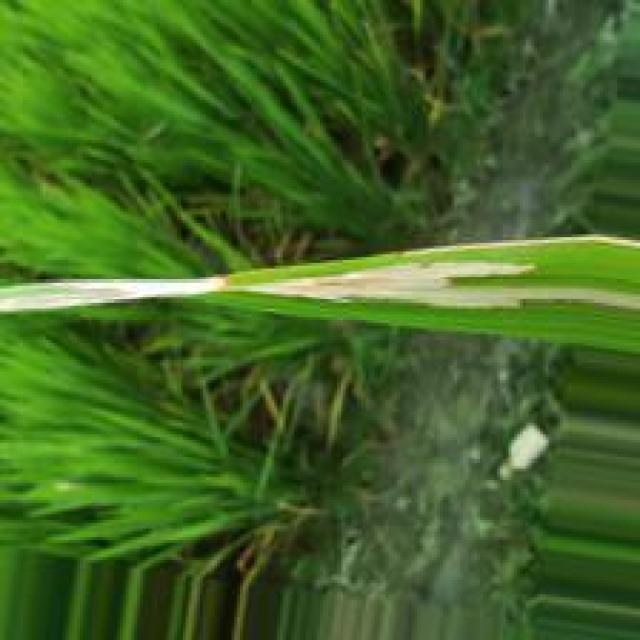Rice_Hispa: (241, 256, 640, 313), (0, 275, 227, 312)
